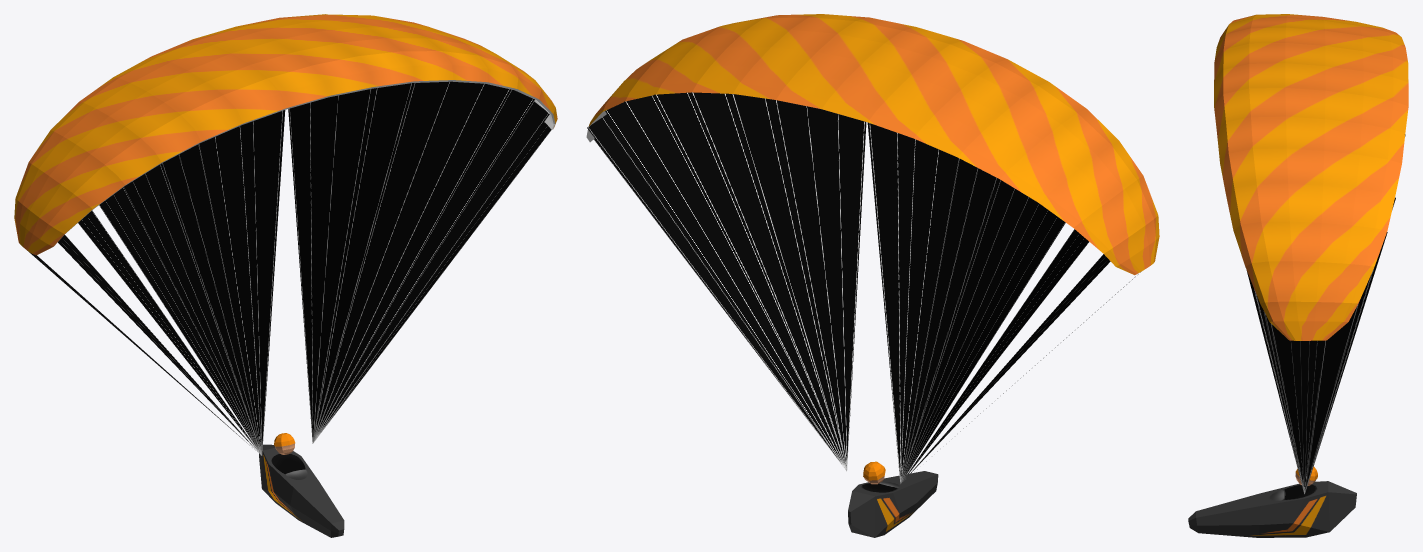
Rendered from wing.glb.
3 views of the same model, side by side, from view 1: azimuth 30°, elevation 25°; view 2: azimuth 150°, elevation 25°; view 3: azimuth 270°, elevation 25° (orthographic). The views are drawn at different scales.
Visible parts, largest first — view 1: lines, wing, harness; view 2: lines, wing, harness; view 3: wing, lines, harness.
Part boxes in pixels (x1,y1,x2,y2): lines: (28, 81, 551, 455); wing: (14, 14, 557, 255); harness: (259, 444, 344, 537); lines: (587, 92, 1140, 484); wing: (586, 14, 1159, 275); harness: (848, 471, 938, 537); wing: (1214, 14, 1408, 340); lines: (1246, 134, 1405, 494); harness: (1188, 481, 1356, 537).
Size of the model in its own units: 4.06 by 3.39 by 1.44.
Materials: 4 (4 with a texture image).
